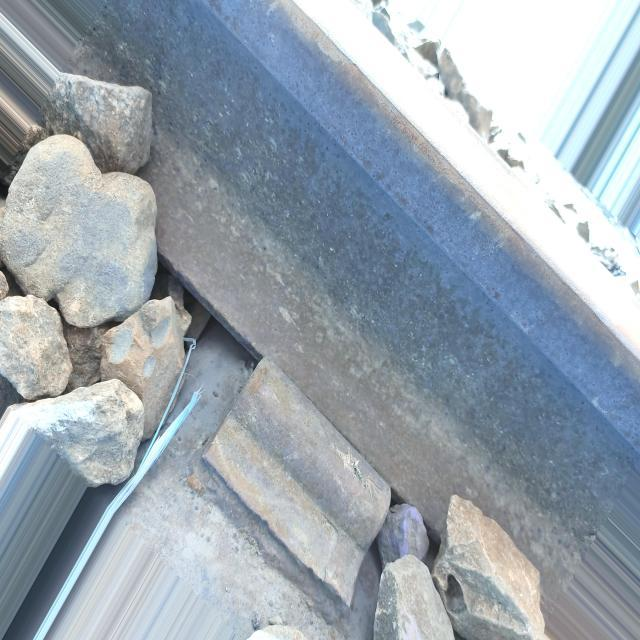Missing Fastener: (107, 303, 429, 637)
